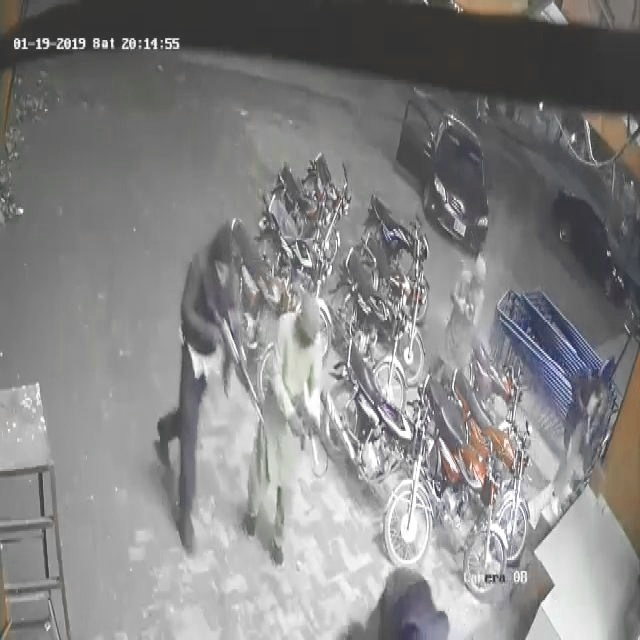gun: (206, 289, 266, 426)
